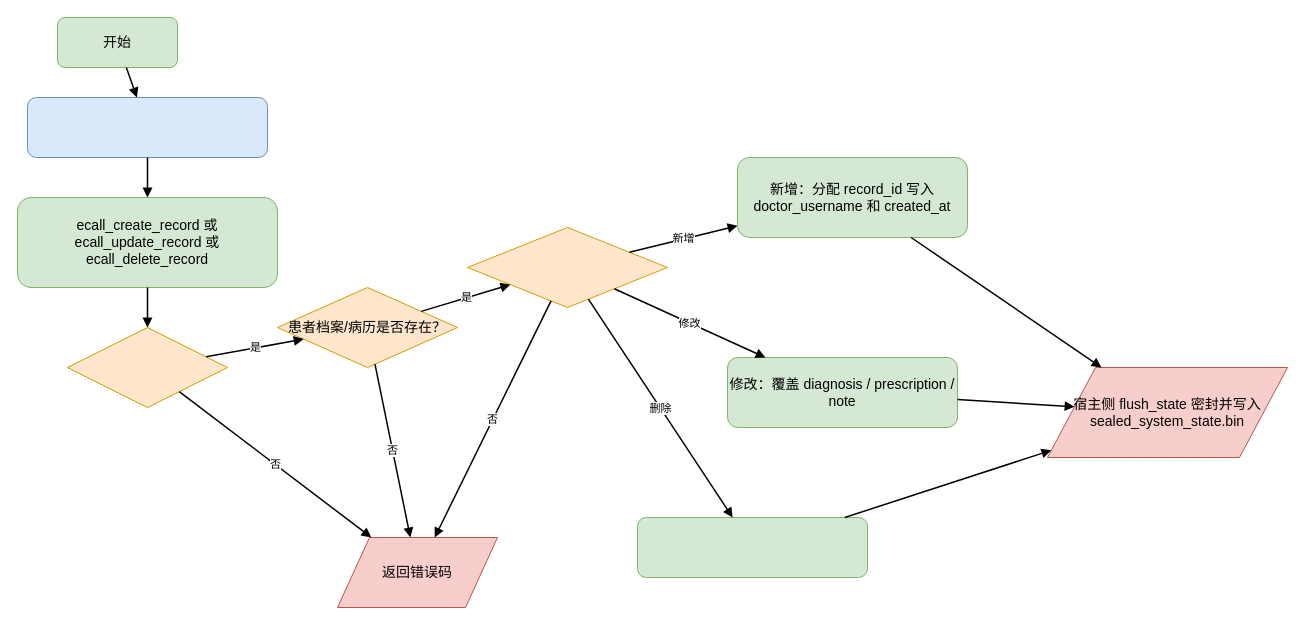
This 1305x625 diagram has some shape labels left out. Here are the shapes that lost their labels. From the top down, the centre of each, then its label:
the point at 147,127: 医生发起新增/修改/删除病历
the point at 567,267: 若为修改或删除 是否为病历创建医生？
the point at 147,367: 当前用户是否医生？
the point at 752,547: 删除：memset 清空记录槽位
